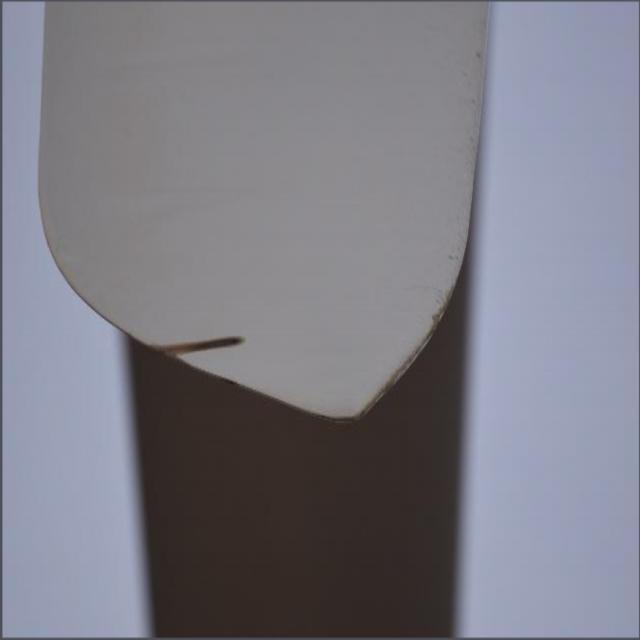Burn Mark: (159, 321, 243, 361)
EROSION: (343, 273, 482, 433)
